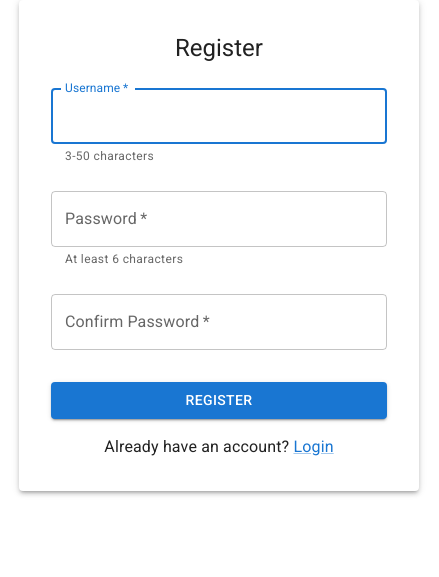
Test case: Register › shows error message on registration failure
The width and height of the screenshot is (439, 577).
Type "existinguser" into the field. click: (219, 116)
box: [51,88,387,144]
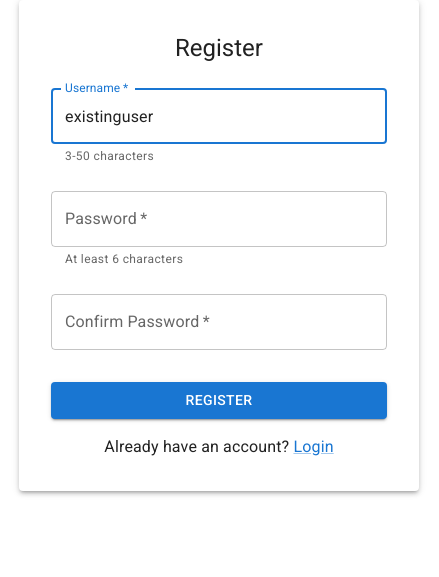
Type "password123" into the password field labelled "Password *". click: (219, 219)
box: [51,191,387,247]
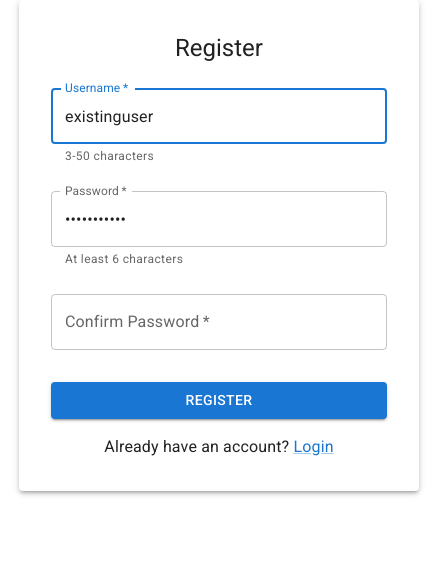
Type "password123" into the password field labelled "Confirm Password *". click: (219, 322)
box: [51,294,387,350]
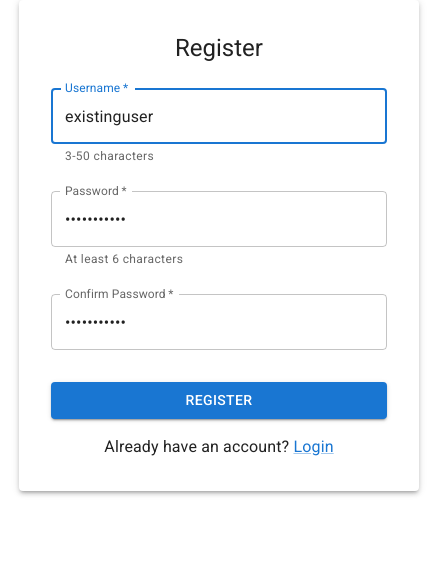
Click the button "Register". click: (219, 400)
box: [51,382,387,419]
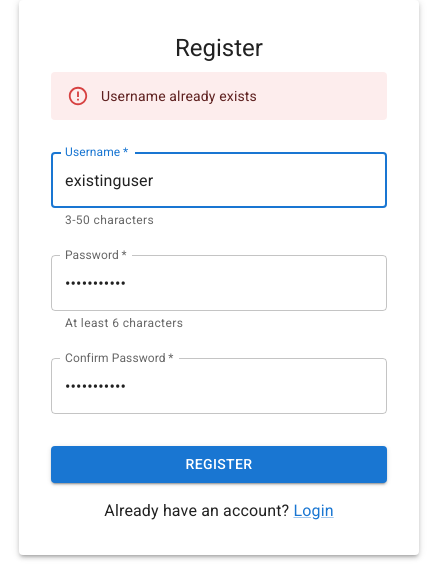
Check: the text "Username already exists" is shown, box [101,88,257,104]
